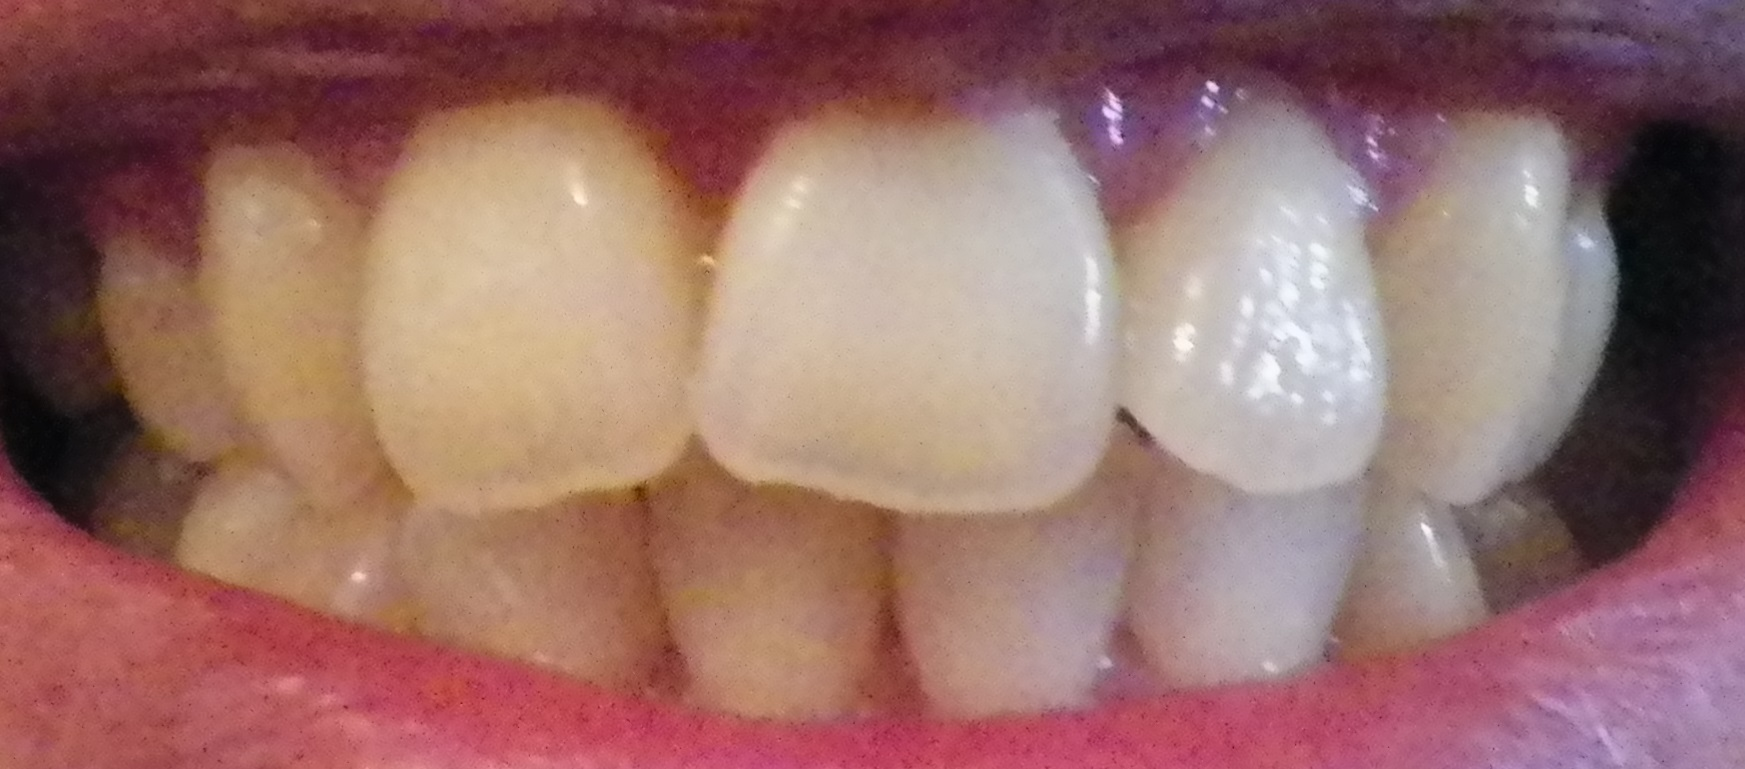boca: (67, 91, 1617, 724)
